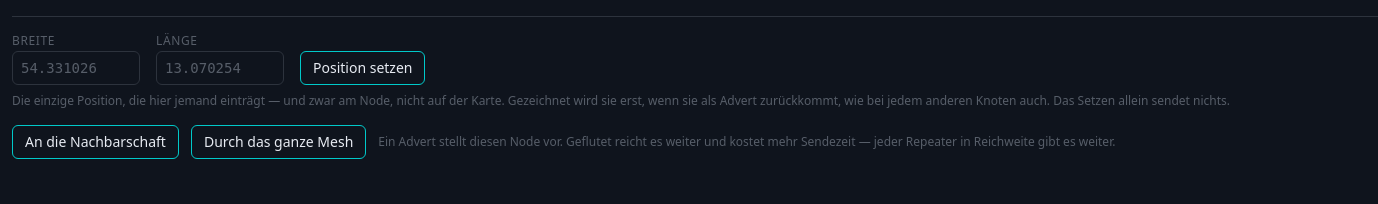
Test: Announce › does not bother the node with something that is not a coordinate
Type "91" into the field labelled "Breite". click: (76, 68)
box: [12,51,140,85]
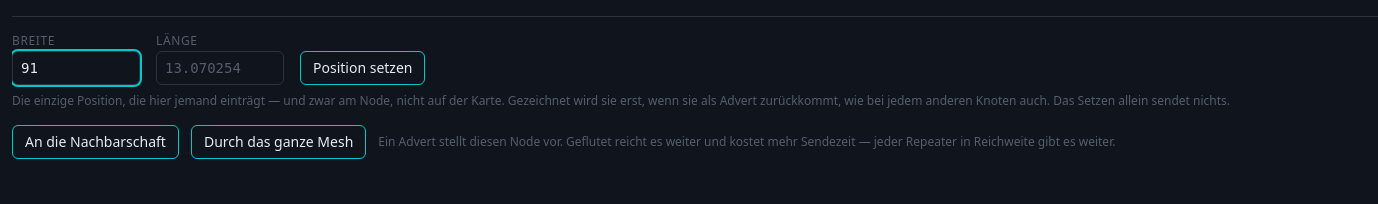
Type "13" into the field labelled "Länge". click: (220, 68)
box: [156,51,284,85]
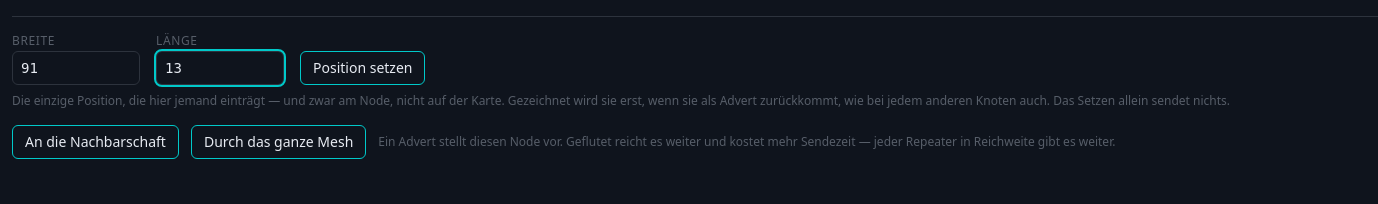
Click the button "Position setzen". click: (363, 68)
box: [300,51,426,85]
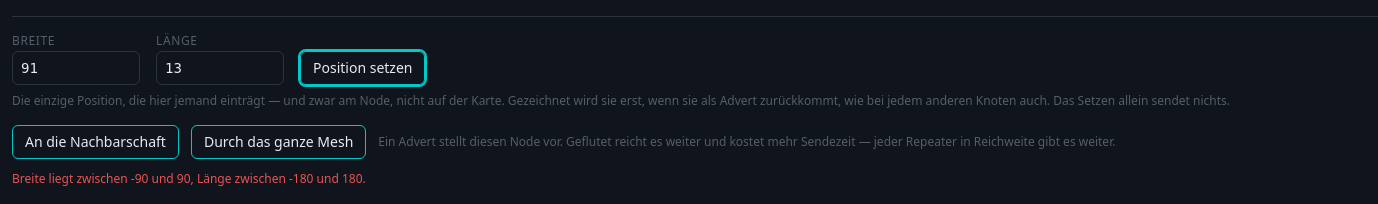
Now the message "Breite liegt zwischen -90 und 90, Länge zwischen -180 und 180." is shown, box [12,170,366,187]
